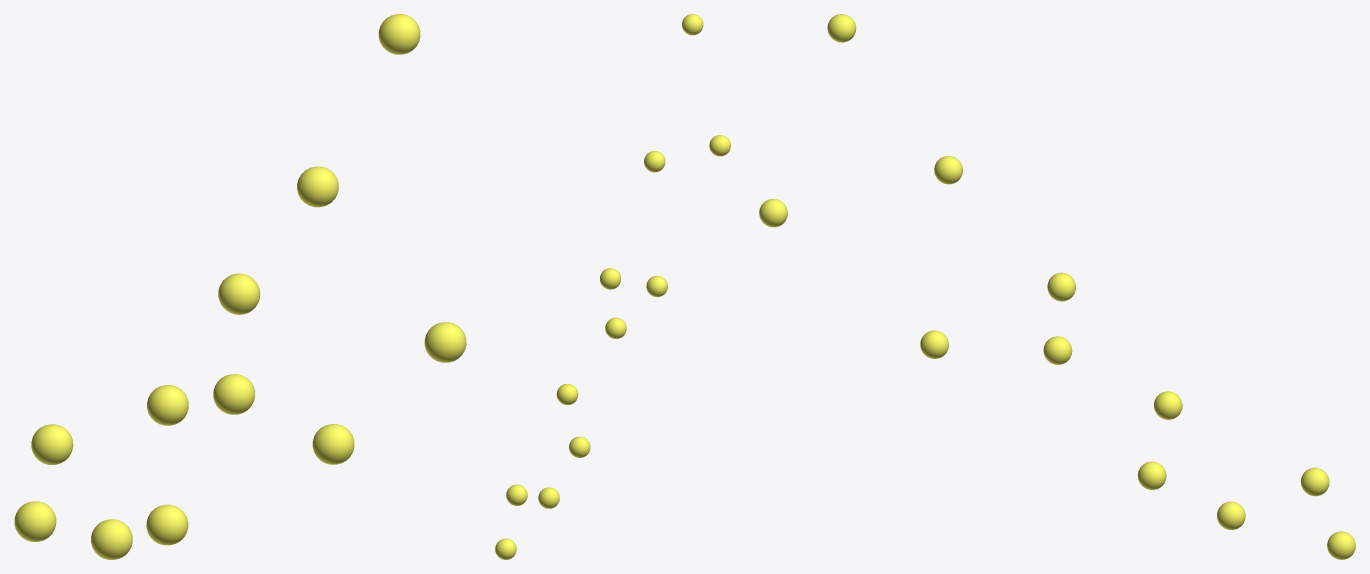
The model's file is Pisces.dae.
3 views of the same model, side by side, from view 1: azimuth 30°, elevation 25°; view 2: azimuth 150°, elevation 25°; view 3: azimuth 270°, elevation 25° (orthographic). The views are drawn at different scales.
Visible parts, largest first — view 1: 元件_2 (×11); view 2: 元件_2 (×11); view 3: no part large enough to name.
Part boxes in pixels (box(x1,y1,x2,y2)): 元件_2 (×11): box(14, 14, 466, 559); 元件_2 (×11): box(495, 14, 730, 559).
Bounding box in the file's own units: 3.76 × 56.19 × 56.45.
